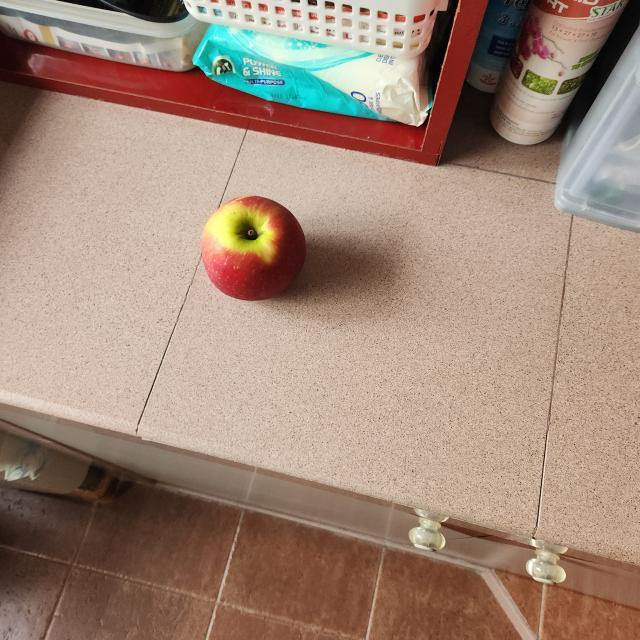apple: (190, 192, 312, 312)
